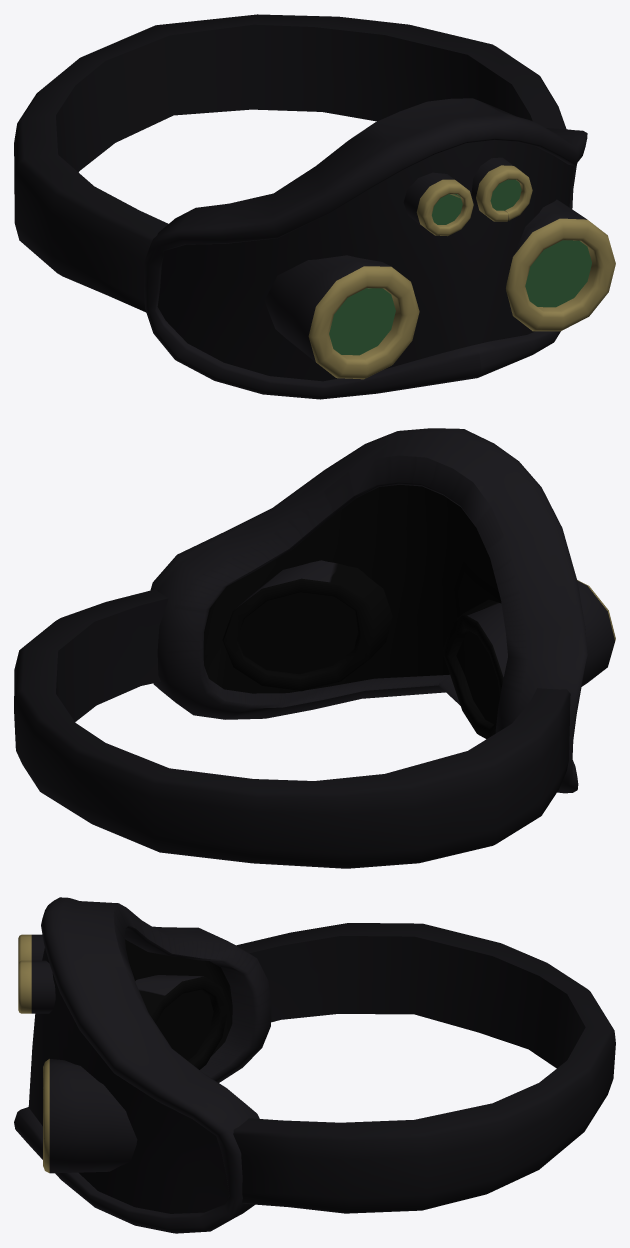
Rendered from OculosNoturno.fbx.
3 views of the same model, one above another, from view 1: azimuth 30°, elevation 25°; view 2: azimuth 150°, elevation 25°; view 3: azimuth 270°, elevation 25° (orthographic). The views are drawn at different scales.
Parts seen in each view (by area): view 1: OculosNoturno; view 2: OculosNoturno; view 3: OculosNoturno.
Part boxes in pixels (x1,y1,x2,y2): OculosNoturno: (14, 14, 615, 399); OculosNoturno: (14, 428, 615, 868); OculosNoturno: (14, 897, 615, 1233).
Bounding box in the file's own units: 22.51 × 11.84 × 26.12.
